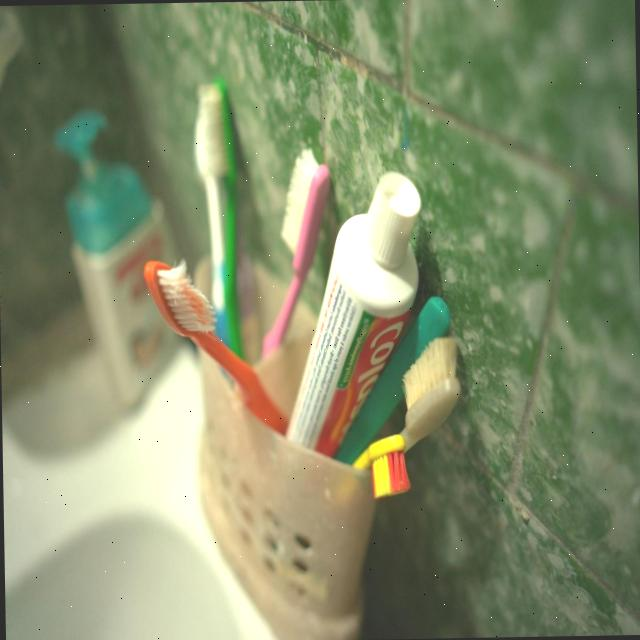Toothpaste: (282, 170, 428, 457)
